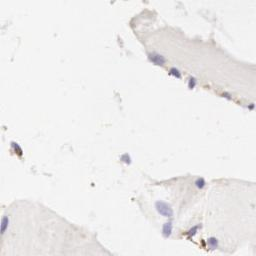nucleus: (155, 200, 174, 216), (149, 51, 166, 67), (186, 221, 203, 237), (163, 219, 172, 238), (169, 67, 182, 80), (207, 236, 218, 251), (195, 177, 206, 189), (1, 216, 8, 234), (188, 77, 197, 90), (121, 152, 131, 163), (222, 91, 232, 101), (11, 141, 19, 150), (248, 103, 255, 111)
positive_cell: (187, 221, 206, 249), (10, 141, 23, 156), (217, 91, 230, 99)
